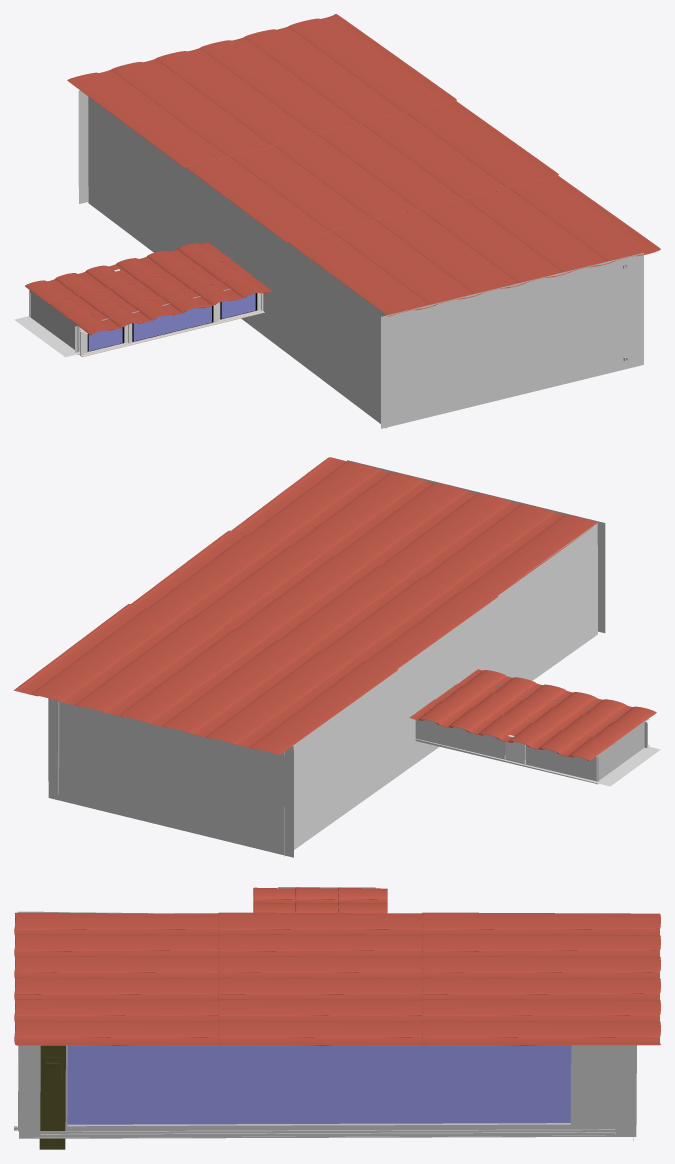
The model's file is HM Coastguard Airbase.fbx.
3 renders of one model, top to bottom at view 1: azimuth 30°, elevation 25°; view 2: azimuth 150°, elevation 25°; view 3: azimuth 270°, elevation 25°, orthographic.
Visible parts, largest first — view 1: HM Coastguard Airbaseangarage-availiableRoof, HM Coastguard Airbasehangarage-availiable, HM Coastguard Airbasedhangarage-availiableHangar.002, HM Coastguard AirbaselTerminal Roof, .lyddaeroWindow.003, HM Coastguard AirbaseTerminal002.001, HM Coastguard Airbasehangarage-availiableHangar.004, HM Coastguard AirbasedTerminaletu; view 2: HM Coastguard Airbaseangarage-availiableRoof, HM Coastguard Airbasedhangarage-availiableHangar.002, HM Coastguard Airbasehangarage-availiableHangar.004, HM Coastguard AirbaselTerminal Roof, HM Coastguard AirbasTerminal002.003, HM Coastguard AirbaseTerminal002.001, HM Coastguard Airbasehangarage-availiable, HM Coastguard AirbasedTerminaletu; view 3: HM Coastguard Airbaseangarage-availiableRoof, Window.L, WindowFrame, HM Coastguard AirbaselTerminal Roof, Handle.
Boxes of the visible parts, box(x1,y1,x2,y2) form: HM Coastguard Airbaseangarage-availiableRoof: box(67, 14, 660, 316); HM Coastguard Airbasehangarage-availiable: box(381, 253, 643, 428); HM Coastguard Airbasedhangarage-availiableHangar.002: box(88, 96, 386, 428); HM Coastguard AirbaselTerminal Roof: box(25, 242, 272, 335); .lyddaeroWindow.003: box(78, 293, 264, 356); HM Coastguard AirbaseTerminal002.001: box(29, 290, 78, 354); HM Coastguard Airbasehangarage-availiableHangar.004: box(78, 90, 88, 203); HM Coastguard AirbasedTerminaletu: box(14, 316, 79, 357); HM Coastguard Airbaseangarage-availiableRoof: box(14, 457, 598, 754); HM Coastguard Airbasedhangarage-availiableHangar.002: box(284, 523, 597, 856); HM Coastguard Airbasehangarage-availiableHangar.004: box(48, 698, 293, 857); HM Coastguard AirbaselTerminal Roof: box(409, 669, 656, 760); HM Coastguard AirbasTerminal002.003: box(415, 719, 598, 783); HM Coastguard AirbaseTerminal002.001: box(596, 721, 644, 784); HM Coastguard Airbasehangarage-availiable: box(347, 460, 605, 632); HM Coastguard AirbasedTerminaletu: box(415, 738, 660, 786); HM Coastguard Airbaseangarage-availiableRoof: box(14, 912, 660, 1045); Window.L: box(14, 1033, 615, 1131); WindowFrame: box(19, 1045, 636, 1138); HM Coastguard AirbaselTerminal Roof: box(253, 887, 387, 913); Handle: box(39, 1045, 65, 1149).
Bounding box in the file's own units: 3920 × 971 × 4714.
